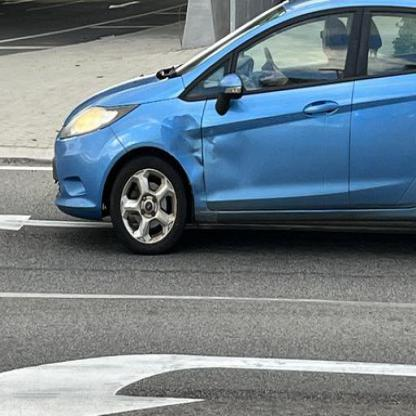Tire: (108, 154, 188, 256)
